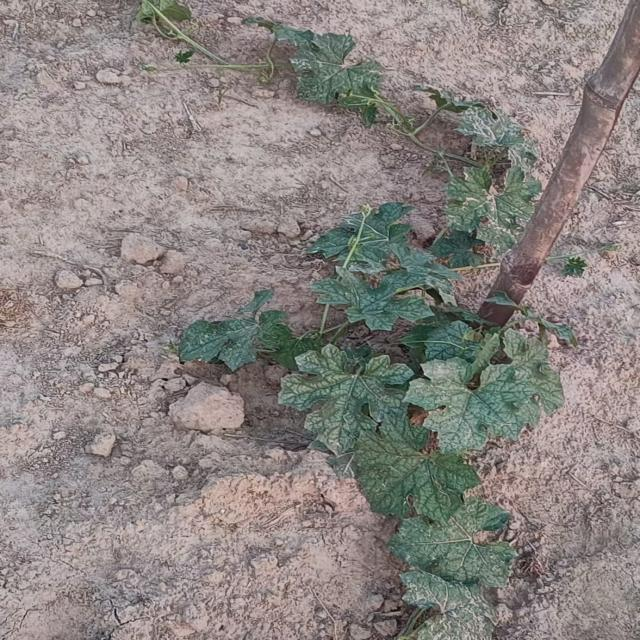plant: (179, 19, 575, 611), (139, 0, 274, 69)
